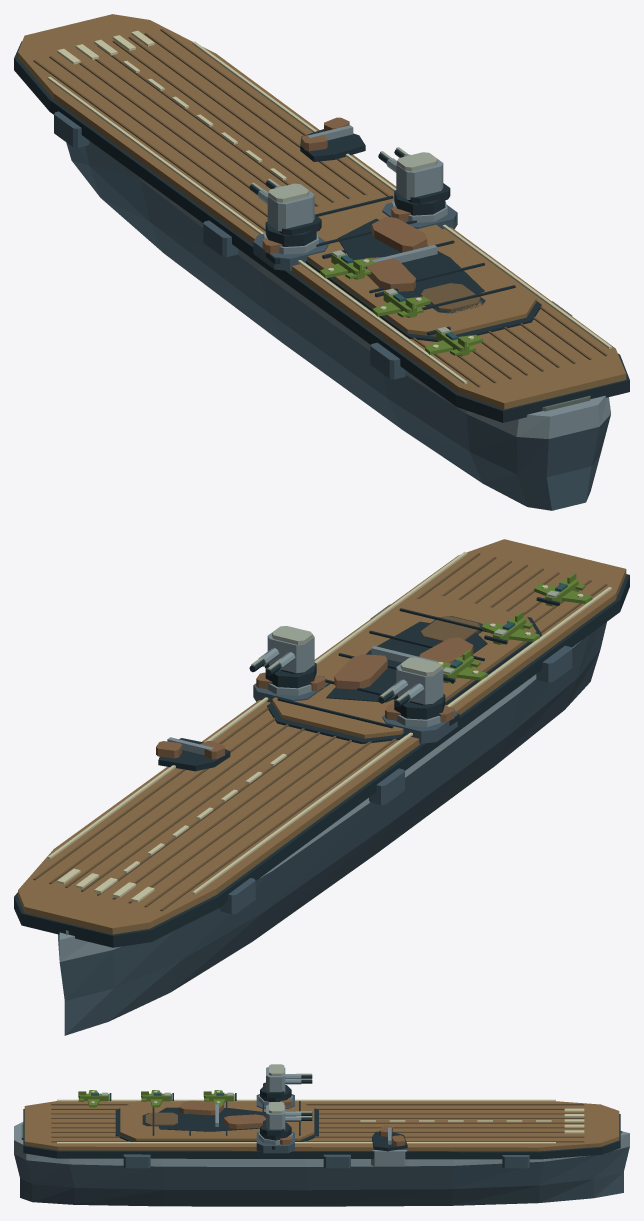
The model's file is historic-long-island.glb.
The picture shows the model from 3 angles, top to bottom: view 1: azimuth 30°, elevation 25°; view 2: azimuth 150°, elevation 25°; view 3: azimuth 270°, elevation 25°; orthographic projection. The views are drawn at different scales.
Parts seen in each view (by area): view 1: historic-long-island-historic-long-island-geometry, historic-long-island-part_flight-deck.024-geometry, historic-long-island-ruin_flight-deck.023-geometry, historic-long-island-turret_aa_aa-starboard.082-geometry, historic-long-island-turret_aa_aa-port.086-geometry, historic-long-island-ruin_bridge.081-geometry, historic-long-island-part_aa-port.086-geometry, historic-long-island-aircraft_lift_0.024-geometry, historic-long-island-parked_aircraft_1.024-geometry, historic-long-island-parked_aircraft_0.024-geometry, historic-long-island-parked_aircraft_2.024-geometry, historic-long-island-part_aa-starboard.082-geometry; view 2: historic-long-island-historic-long-island-geometry, historic-long-island-part_flight-deck.024-geometry, historic-long-island-ruin_flight-deck.023-geometry, historic-long-island-turret_aa_aa-port.086-geometry, historic-long-island-turret_aa_aa-starboard.082-geometry, historic-long-island-ruin_bridge.081-geometry, historic-long-island-part_aa-port.086-geometry, historic-long-island-parked_aircraft_0.024-geometry, historic-long-island-parked_aircraft_1.024-geometry, historic-long-island-aircraft_lift_0.024-geometry, historic-long-island-parked_aircraft_2.024-geometry, historic-long-island-part_aa-starboard.082-geometry; view 3: historic-long-island-historic-long-island-geometry, historic-long-island-part_flight-deck.024-geometry, historic-long-island-ruin_flight-deck.023-geometry, historic-long-island-turret_aa_aa-port.086-geometry, historic-long-island-turret_aa_aa-starboard.082-geometry, historic-long-island-ruin_bridge.081-geometry, historic-long-island-part_bridge.082-geometry, historic-long-island-part_aa-starboard.082-geometry, historic-long-island-aircraft_lift_0.024-geometry, historic-long-island-parked_aircraft_0.024-geometry, historic-long-island-parked_aircraft_1.024-geometry, historic-long-island-parked_aircraft_2.024-geometry.
Boxes of the visible parts, left/top/right/bottom form: historic-long-island-historic-long-island-geometry: left=14, top=14, right=629, bottom=510; historic-long-island-part_flight-deck.024-geometry: left=305, top=195, right=541, bottom=341; historic-long-island-ruin_flight-deck.023-geometry: left=337, top=216, right=484, bottom=306; historic-long-island-turret_aa_aa-starboard.082-geometry: left=378, top=147, right=450, bottom=215; historic-long-island-turret_aa_aa-port.086-geometry: left=249, top=178, right=321, bottom=246; historic-long-island-ruin_bridge.081-geometry: left=300, top=117, right=365, bottom=161; historic-long-island-part_aa-port.086-geometry: left=253, top=232, right=328, bottom=271; historic-long-island-aircraft_lift_0.024-geometry: left=420, top=283, right=485, bottom=313; historic-long-island-parked_aircraft_1.024-geometry: left=372, top=288, right=430, bottom=317; historic-long-island-parked_aircraft_0.024-geometry: left=425, top=326, right=482, bottom=356; historic-long-island-parked_aircraft_2.024-geometry: left=320, top=250, right=377, bottom=279; historic-long-island-part_aa-starboard.082-geometry: left=382, top=201, right=457, bottom=229; historic-long-island-historic-long-island-geometry: left=14, top=539, right=629, bottom=1035; historic-long-island-part_flight-deck.024-geometry: left=267, top=596, right=541, bottom=743; historic-long-island-ruin_flight-deck.023-geometry: left=326, top=621, right=487, bottom=702; historic-long-island-turret_aa_aa-port.086-geometry: left=378, top=657, right=445, bottom=719; historic-long-island-turret_aa_aa-starboard.082-geometry: left=249, top=626, right=316, bottom=688; historic-long-island-ruin_bridge.081-geometry: left=156, top=737, right=230, bottom=771; historic-long-island-part_aa-port.086-geometry: left=382, top=704, right=457, bottom=743; historic-long-island-parked_aircraft_0.024-geometry: left=534, top=573, right=592, bottom=606; historic-long-island-parked_aircraft_1.024-geometry: left=482, top=611, right=539, bottom=644; historic-long-island-aircraft_lift_0.024-geometry: left=420, top=616, right=482, bottom=641; historic-long-island-parked_aircraft_2.024-geometry: left=434, top=649, right=487, bottom=683; historic-long-island-part_aa-starboard.082-geometry: left=253, top=673, right=328, bottom=702; historic-long-island-historic-long-island-geometry: left=14, top=1099, right=629, bottom=1206; historic-long-island-part_flight-deck.024-geometry: left=115, top=1101, right=318, bottom=1141; historic-long-island-ruin_flight-deck.023-geometry: left=158, top=1100, right=265, bottom=1131; historic-long-island-turret_aa_aa-port.086-geometry: left=260, top=1064, right=312, bottom=1101; historic-long-island-turret_aa_aa-starboard.082-geometry: left=260, top=1102, right=312, bottom=1140; historic-long-island-ruin_bridge.081-geometry: left=372, top=1125, right=407, bottom=1151; historic-long-island-part_bridge.082-geometry: left=371, top=1150, right=409, bottom=1166; historic-long-island-part_aa-starboard.082-geometry: left=256, top=1131, right=294, bottom=1153; historic-long-island-aircraft_lift_0.024-geometry: left=142, top=1112, right=177, bottom=1126; historic-long-island-parked_aircraft_0.024-geometry: left=78, top=1090, right=111, bottom=1107; historic-long-island-parked_aircraft_1.024-geometry: left=141, top=1090, right=173, bottom=1107; historic-long-island-parked_aircraft_2.024-geometry: left=203, top=1090, right=236, bottom=1105.
Bounding box in the file's own units: 1.27 × 1.1 × 5.89.
